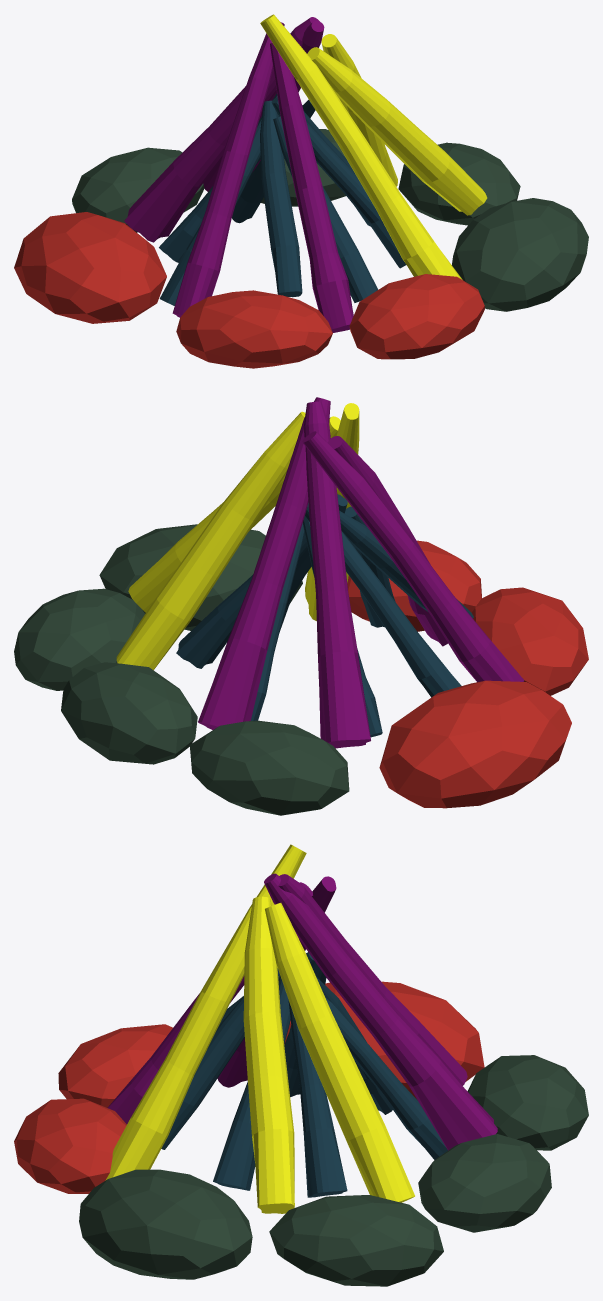
Rendered from Campfire.obj.
3 views of the same model, one above another, from view 1: azimuth 30°, elevation 25°; view 2: azimuth 150°, elevation 25°; view 3: azimuth 270°, elevation 25° (orthographic). The views are drawn at different scales.
Visible parts, largest first — view 1: pasted__pasted__pasted__pCylinder1 pasted__pasted__group pasted_, pasted__pasted__pPlatonic2 pasted__group30 group31, pasted__pasted__pasted__pasted__pasted__pPlatonic2 pasted__paste, pasted__pasted__pasted__pPlatonic2 pasted__pasted__group30 paste, pasted__pasted__pasted__pasted__pPlatonic2 pasted__pasted__paste, group28 pasted__pasted__pasted__pasted__pCylinder1 pasted__paste, pasted__pasted__pasted__pasted__pasted__pCylinder1 pasted__paste, pasted__pCylinder1 group25, pasted__group32 group33 pasted__pasted__pasted__pPlatonic2 paste, group35 pasted__pasted__pCylinder1 pasted__group25, pasted__pPlatonic2 group30, group35 pasted__pasted__pasted__pCylinder1 pasted__pasted__group (+7 smaller); view 2: pasted__pasted__pPlatonic2 pasted__group30 group31, pasted__pasted__pasted__pCylinder1 pasted__pasted__group pasted_, pasted__group32 group33 pasted__pasted__pasted__pPlatonic2 paste, group32 pasted__pasted__pPlatonic2 pasted__group30, group28 pasted__pasted__pCylinder1 pasted__group25, pasted__pasted__pCylinder1 pasted__group group27, pasted__pasted__pasted__pasted__pasted__pCylinder1 pasted__paste, pasted__pPlatonic2 group30, pasted__pasted__pasted__pPlatonic2 pasted__pasted__group30 paste, pasted__pasted__pasted__pasted__pasted__pPlatonic2 pasted__paste, pasted__group28 group35 pasted__pasted__pasted__pasted__pasted__, pasted__pasted__pasted__pasted__pPlatonic2 pasted__pasted__paste (+8 smaller); view 3: pasted__pasted__pasted__pasted__pasted__pPlatonic2 pasted__paste, pasted__pPlatonic2 group30, group28 pasted__pasted__pCylinder1 pasted__group25, pasted__pasted__pCylinder1 pasted__group group27, pasted__pCylinder1 group25, group28 pasted__pasted__pasted__pasted__pCylinder1 pasted__paste, group32 pasted__pasted__pPlatonic2 pasted__group30, pasted__group32 group33 pasted__pasted__pasted__pPlatonic2 paste, pasted__pasted__pasted__pasted__pPlatonic2 pasted__pasted__paste, pasted__pasted__pasted__pPlatonic2 pasted__pasted__group30 paste, pasted__pasted__pasted__pCylinder1 pasted__pasted__group pasted_, pasted__group28 group35 pasted__pasted__pasted__pasted__pCylinde (+7 smaller).
Boxes of the visible parts, x1,y1,x2,y2 form: pasted__pasted__pasted__pCylinder1 pasted__pasted__group pasted_: (124, 17, 353, 332); pasted__pasted__pPlatonic2 pasted__group30 group31: (14, 212, 166, 323); pasted__pasted__pasted__pasted__pasted__pPlatonic2 pasted__paste: (452, 198, 588, 311); pasted__pasted__pasted__pPlatonic2 pasted__pasted__group30 paste: (176, 290, 332, 368); pasted__pasted__pasted__pasted__pPlatonic2 pasted__pasted__paste: (349, 274, 484, 359); group28 pasted__pasted__pasted__pasted__pCylinder1 pasted__paste: (260, 14, 462, 279); pasted__pasted__pasted__pasted__pasted__pCylinder1 pasted__paste: (172, 22, 284, 317); pasted__pCylinder1 group25: (307, 47, 487, 215); pasted__group32 group33 pasted__pasted__pasted__pPlatonic2 paste: (72, 147, 204, 232); group35 pasted__pasted__pCylinder1 pasted__group25: (260, 100, 302, 297); pasted__pPlatonic2 group30: (398, 142, 520, 225); group35 pasted__pasted__pasted__pCylinder1 pasted__pasted__group: (271, 97, 406, 268); pasted__pasted__pPlatonic2 pasted__group30 group31: (379, 680, 571, 808); pasted__pasted__pasted__pCylinder1 pasted__pasted__group pasted_: (303, 401, 447, 748); pasted__group32 group33 pasted__pasted__pasted__pPlatonic2 paste: (189, 720, 349, 815); group32 pasted__pasted__pPlatonic2 pasted__group30: (61, 662, 197, 764); group28 pasted__pasted__pCylinder1 pasted__group25: (116, 411, 305, 670); pasted__pasted__pCylinder1 pasted__group group27: (198, 397, 330, 729); pasted__pasted__pasted__pasted__pasted__pCylinder1 pasted__paste: (302, 431, 524, 682); pasted__pPlatonic2 group30: (14, 588, 144, 690); pasted__pasted__pasted__pPlatonic2 pasted__pasted__group30 paste: (472, 587, 588, 695); pasted__pasted__pasted__pasted__pasted__pPlatonic2 pasted__paste: (99, 524, 302, 630); pasted__group28 group35 pasted__pasted__pasted__pasted__pasted__: (305, 503, 461, 697); pasted__pasted__pasted__pasted__pPlatonic2 pasted__pasted__paste: (347, 540, 481, 631); pasted__pasted__pasted__pasted__pasted__pPlatonic2 pasted__paste: (79, 1169, 252, 1279); pasted__pPlatonic2 group30: (269, 1195, 443, 1286); group28 pasted__pasted__pCylinder1 pasted__group25: (265, 903, 414, 1202); pasted__pasted__pCylinder1 pasted__group group27: (264, 873, 497, 1150); pasted__pCylinder1 group25: (243, 896, 294, 1213); group28 pasted__pasted__pasted__pasted__pCylinder1 pasted__paste: (105, 844, 306, 1180); group32 pasted__pasted__pPlatonic2 pasted__group30: (418, 1134, 551, 1232); pasted__group32 group33 pasted__pasted__pasted__pPlatonic2 paste: (467, 1055, 588, 1150); pasted__pasted__pasted__pasted__pPlatonic2 pasted__pasted__paste: (14, 1098, 126, 1193); pasted__pasted__pasted__pPlatonic2 pasted__pasted__group30 paste: (58, 1024, 172, 1107); pasted__pasted__pasted__pCylinder1 pasted__pasted__group pasted_: (107, 874, 467, 1124); pasted__group28 group35 pasted__pasted__pasted__pasted__pCylinde: (288, 999, 347, 1197).
Size of the model in its own units: 8.15 by 4.7 by 7.58.
